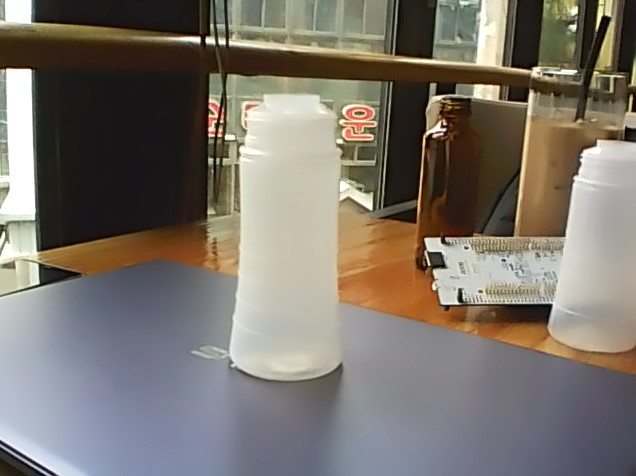Plastic: (229, 93, 344, 384)
